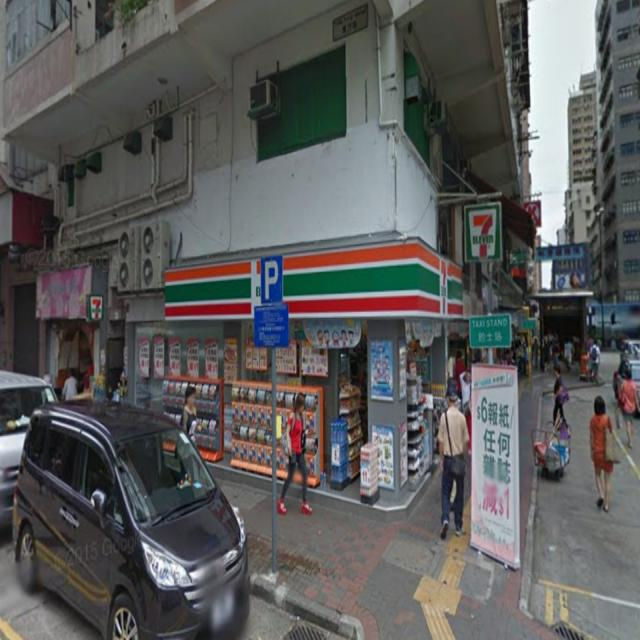body: (274, 389, 312, 517), (510, 333, 582, 377), (440, 381, 464, 511), (589, 393, 613, 514), (178, 385, 198, 486), (618, 368, 640, 448), (551, 362, 572, 440), (440, 376, 464, 416), (455, 349, 466, 414), (472, 348, 511, 366), (61, 367, 79, 403), (459, 369, 472, 413), (589, 338, 601, 383), (82, 359, 95, 391), (446, 348, 456, 389)
